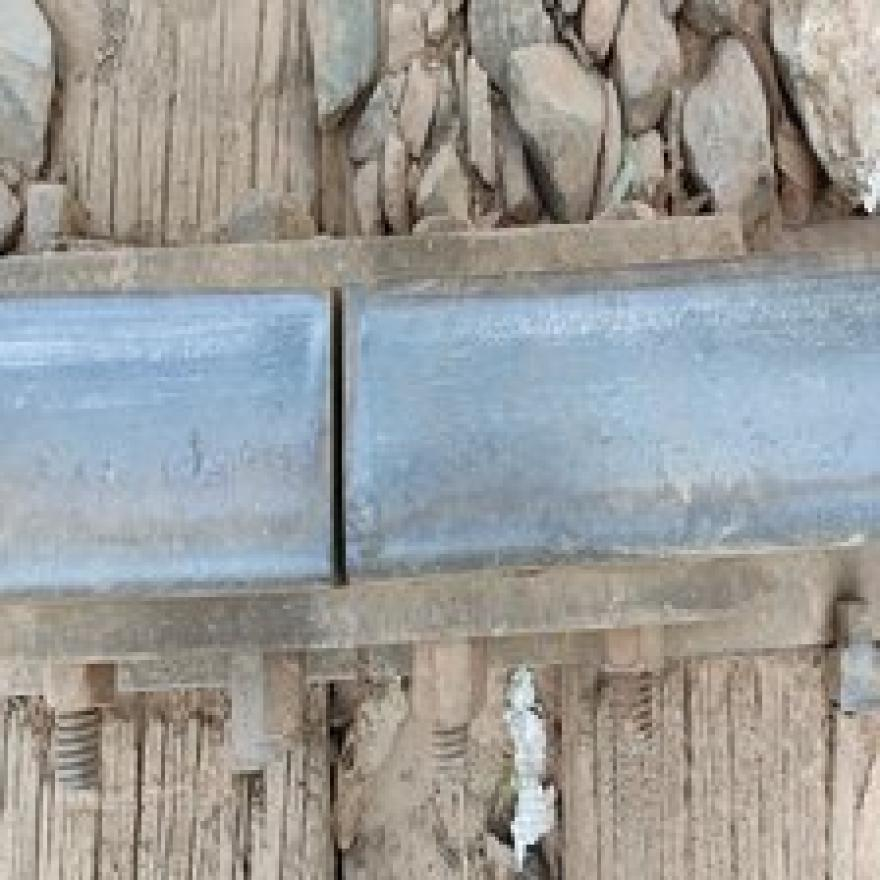railway-gap: (127, 223, 548, 650)
